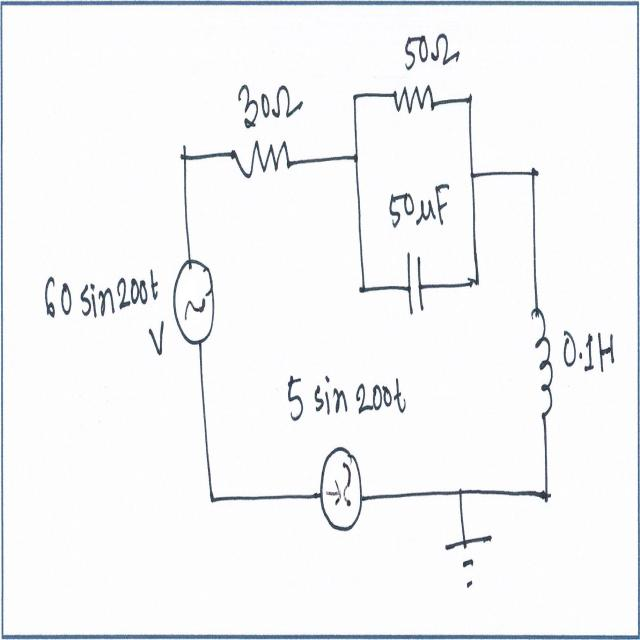ac_current: (171, 254, 222, 348)
capacitor: (404, 243, 426, 326)
current_source: (321, 440, 365, 534)
ground: (435, 534, 497, 598)
inductor: (528, 298, 557, 426)
resistor: (232, 138, 291, 180), (391, 75, 434, 121)
